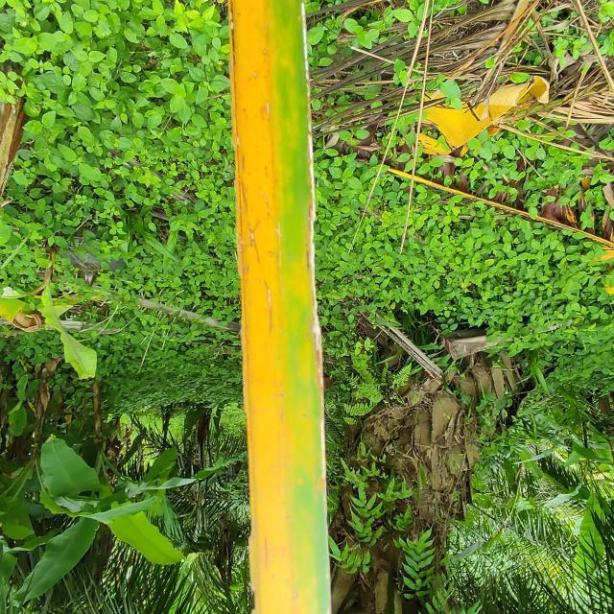Megnesium: (225, 0, 331, 614)
